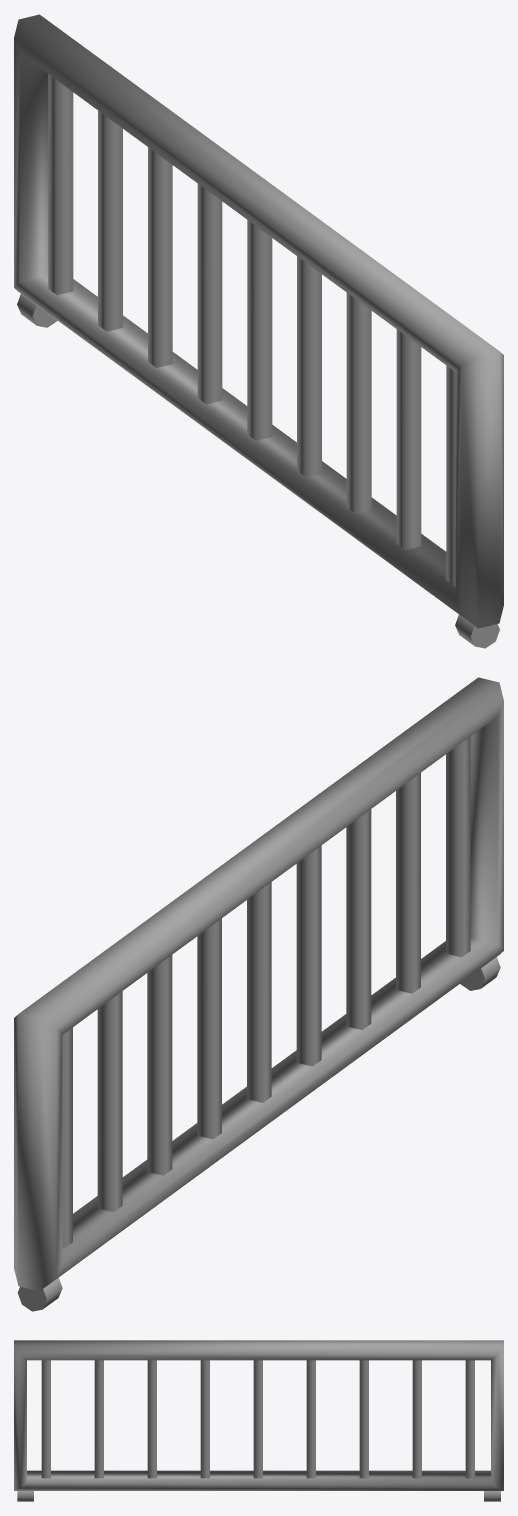
File: Door.fbx
The picture shows the model from 3 angles, top to bottom: view 1: azimuth 30°, elevation 25°; view 2: azimuth 150°, elevation 25°; view 3: azimuth 270°, elevation 25°; orthographic projection. The views are drawn at different scales.
Visible parts, largest first — view 1: Object001; view 2: Object001; view 3: Object001.
Boxes of the visible parts, x1=… form: Object001: x1=14, y1=14, x2=503, y2=648; Object001: x1=14, y1=677, x2=503, y2=1311; Object001: x1=14, y1=1340, x2=503, y2=1501.
Size of the model in its own units: 12.88 by 86.47 by 243.
Materials: 1 (1 with a texture image).
